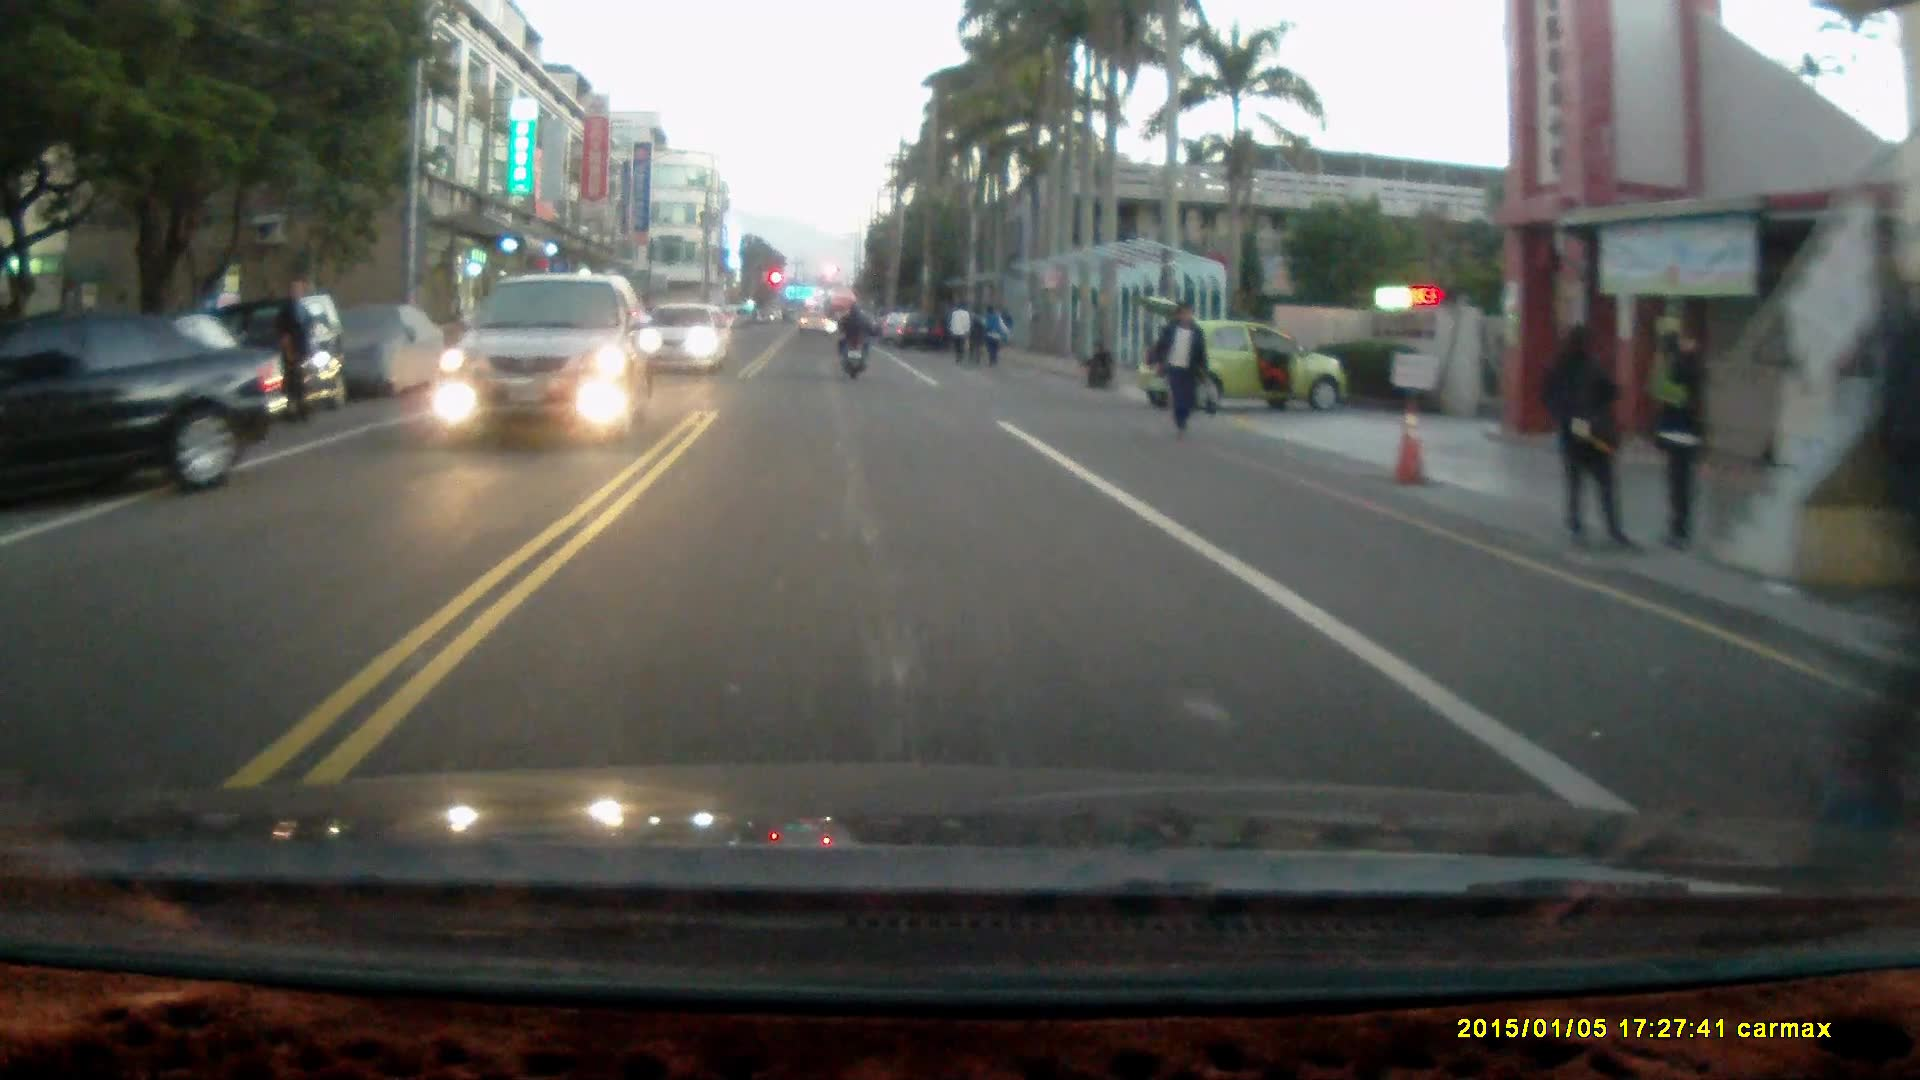pedestrian: (1535, 314, 1635, 548), (1648, 319, 1706, 546), (1151, 300, 1213, 442), (980, 298, 1006, 366), (1083, 339, 1115, 389), (947, 296, 969, 364), (966, 302, 986, 364)
rider: (832, 299, 872, 380)
vehicle: (0, 305, 293, 517), (440, 269, 660, 438), (1134, 293, 1359, 410), (185, 296, 346, 422), (640, 303, 734, 376)
